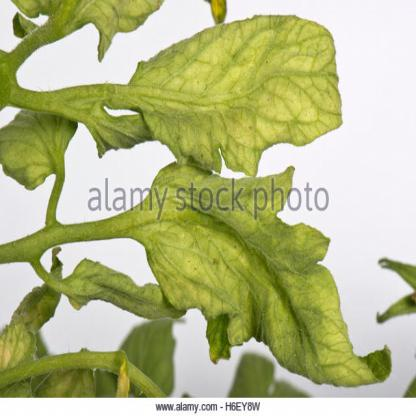tomato leaf mosaic virus: (125, 147, 395, 387), (96, 20, 355, 180)
